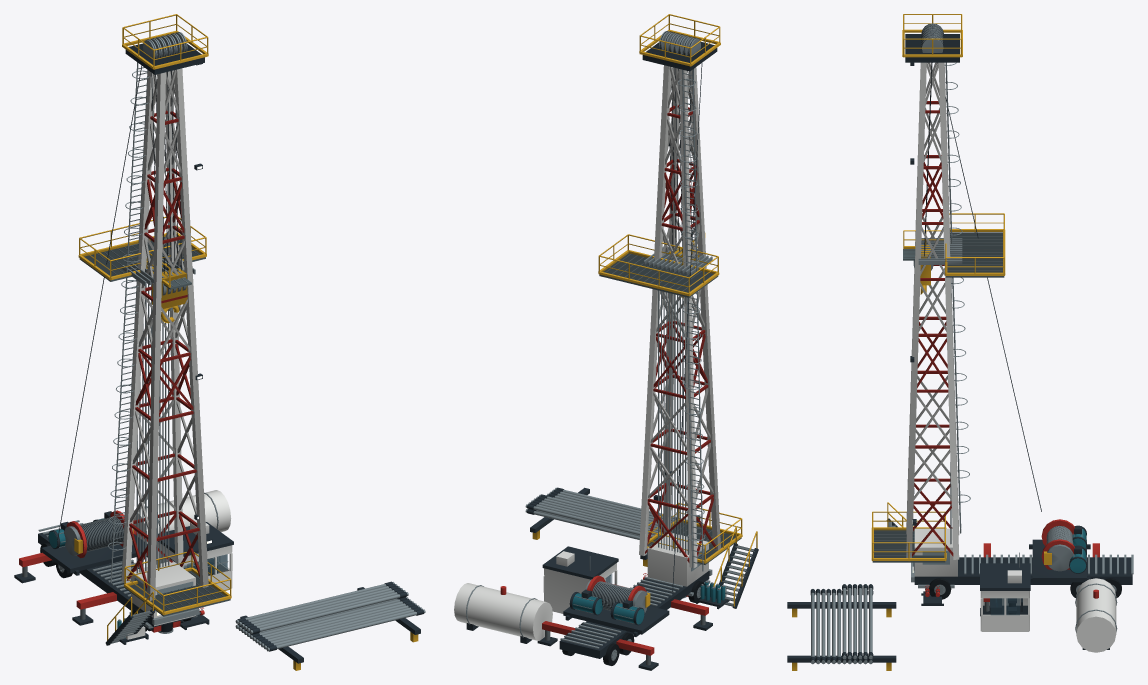
Rendered from workover_truck_lodm.glb.
3 views of the same model, side by side, from view 1: azimuth 30°, elevation 25°; view 2: azimuth 150°, elevation 25°; view 3: azimuth 270°, elevation 25° (orthographic). The views are drawn at different scales.
Parts seen in each view (by area): view 1: derrick_surface_white, pipe_rack_surface_steel, derrick_surface_red, ladder_surface_steel, rod_rack_surface_steel, fuel_tank_surface_white, drill_line_surface_dark, handrails_surface_yellow, drawworks_surface_dark, crown_block_surface_yellow, racking_board_surface_yellow, carrier_surface_white (+14 smaller); view 2: derrick_surface_white, rod_rack_surface_steel, derrick_surface_red, fuel_tank_surface_white, ladder_surface_steel, pipe_rack_surface_steel, carrier_surface_dark, carrier_surface_white, racking_board_surface_deck, racking_board_surface_yellow, doghouse_surface_white, carrier_surface_steel (+18 smaller); view 3: derrick_surface_white, pipe_rack_surface_steel, derrick_surface_red, fuel_tank_surface_white, carrier_surface_dark, racking_board_surface_deck, doghouse_surface_dark, doghouse_surface_white, pipe_rack_surface_dark, carrier_surface_white, racking_board_surface_steel, ladder_surface_steel (+13 smaller).
Part boxes in pixels (<box>): derrick_surface_white: <box>122,68,208,600</box>; pipe_rack_surface_steel: <box>235,582,425,651</box>; derrick_surface_red: <box>126,110,199,589</box>; ladder_surface_steel: <box>108,62,149,583</box>; rod_rack_surface_steel: <box>136,280,169,573</box>; fuel_tank_surface_white: <box>133,490,231,543</box>; drill_line_surface_dark: <box>57,65,181,542</box>; handrails_surface_yellow: <box>124,552,231,615</box>; drawworks_surface_dark: <box>41,534,147,575</box>; crown_block_surface_yellow: <box>122,14,208,69</box>; racking_board_surface_yellow: <box>78,216,206,280</box>; carrier_surface_white: <box>131,560,195,626</box>; derrick_surface_white: <box>639,65,720,568</box>; rod_rack_surface_steel: <box>658,290,688,554</box>; derrick_surface_red: <box>645,105,716,562</box>; fuel_tank_surface_white: <box>454,583,552,640</box>; ladder_surface_steel: <box>678,69,705,571</box>; pipe_rack_surface_steel: <box>525,487,704,539</box>; carrier_surface_dark: <box>559,571,709,658</box>; carrier_surface_white: <box>647,532,708,586</box>; racking_board_surface_deck: <box>599,253,718,297</box>; racking_board_surface_yellow: <box>598,234,719,296</box>; doghouse_surface_white: <box>543,551,617,613</box>; carrier_surface_steel: <box>560,569,712,660</box>; derrick_surface_white: <box>906,62,959,559</box>; pipe_rack_surface_steel: <box>811,584,872,664</box>; derrick_surface_red: <box>912,101,953,556</box>; fuel_tank_surface_white: <box>1076,578,1116,652</box>; carrier_surface_dark: <box>913,557,1132,584</box>; racking_board_surface_deck: <box>946,232,1004,277</box>; doghouse_surface_dark: <box>980,563,1030,614</box>; doghouse_surface_white: <box>980,570,1029,631</box>; pipe_rack_surface_dark: <box>787,584,896,662</box>; carrier_surface_white: <box>914,528,957,576</box>; racking_board_surface_steel: <box>918,233,1002,271</box>; ladder_surface_steel: <box>944,62,970,533</box>.
Size of the model in its own units: 15.3 by 34.25 by 19.06.
